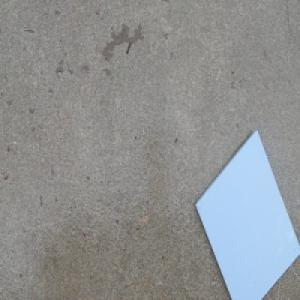PaintChip: (194, 126, 300, 300)
